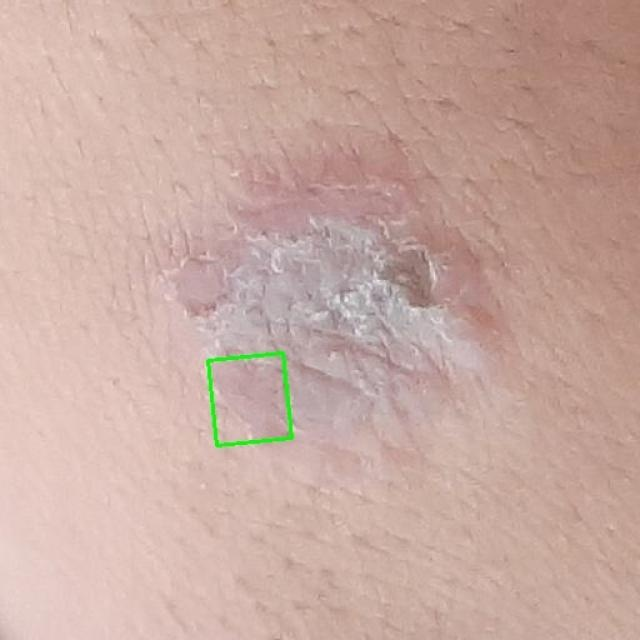Contact Dermatitis: (208, 353, 291, 445)
